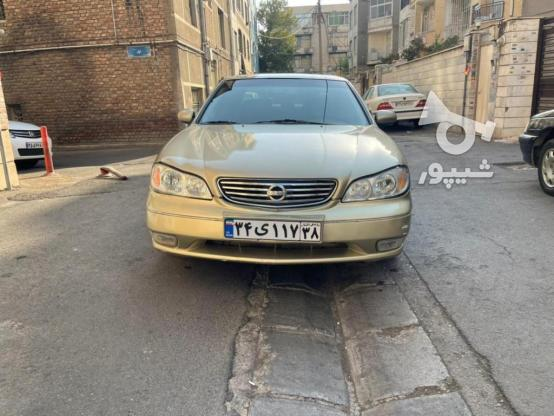car: (218, 220, 321, 240), (395, 100, 415, 106)
